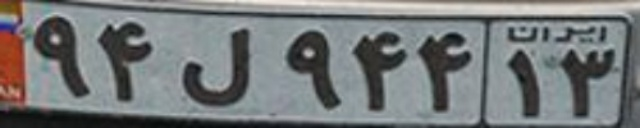1: (506, 47, 539, 117)
3: (560, 46, 612, 118)
4: (98, 20, 161, 101), (350, 29, 405, 111), (417, 31, 473, 111)
9: (28, 14, 93, 98), (285, 29, 339, 110)
lam: (175, 26, 249, 105)
